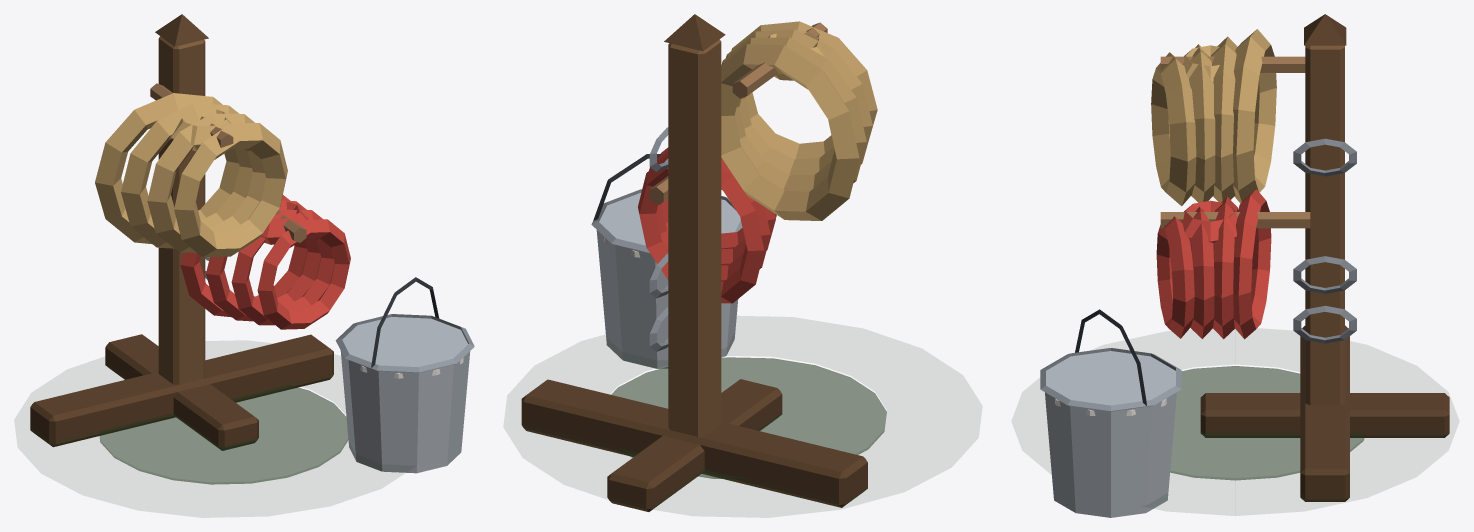
The model's file is rope_coil.glb.
3 renders of one model, left to right at view 1: azimuth 30°, elevation 25°; view 2: azimuth 150°, elevation 25°; view 3: azimuth 270°, elevation 25°, orthographic. The views are drawn at different scales.
Visible parts, largest first — view 1: rope_coil; view 2: rope_coil; view 3: rope_coil.
Boxes of the visible parts, x1,y1,x2,y2 form: rope_coil: [30, 14, 474, 484]; rope_coil: [521, 14, 886, 511]; rope_coil: [1040, 14, 1449, 517].
Size of the model in its own units: 0.9 by 0.922 by 0.9.
